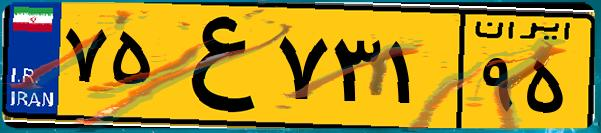1: (385, 28, 445, 110)
3: (330, 28, 385, 110)
5: (525, 38, 570, 115), (110, 28, 158, 98)
7: (270, 28, 330, 110), (57, 26, 110, 100)
9: (475, 38, 525, 113)
ع: (158, 12, 270, 120)
